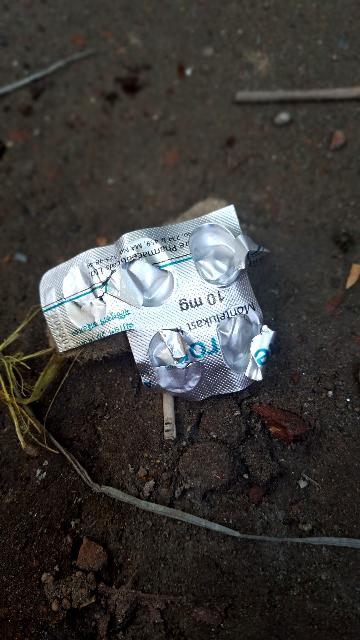medicine: (40, 205, 275, 399)
